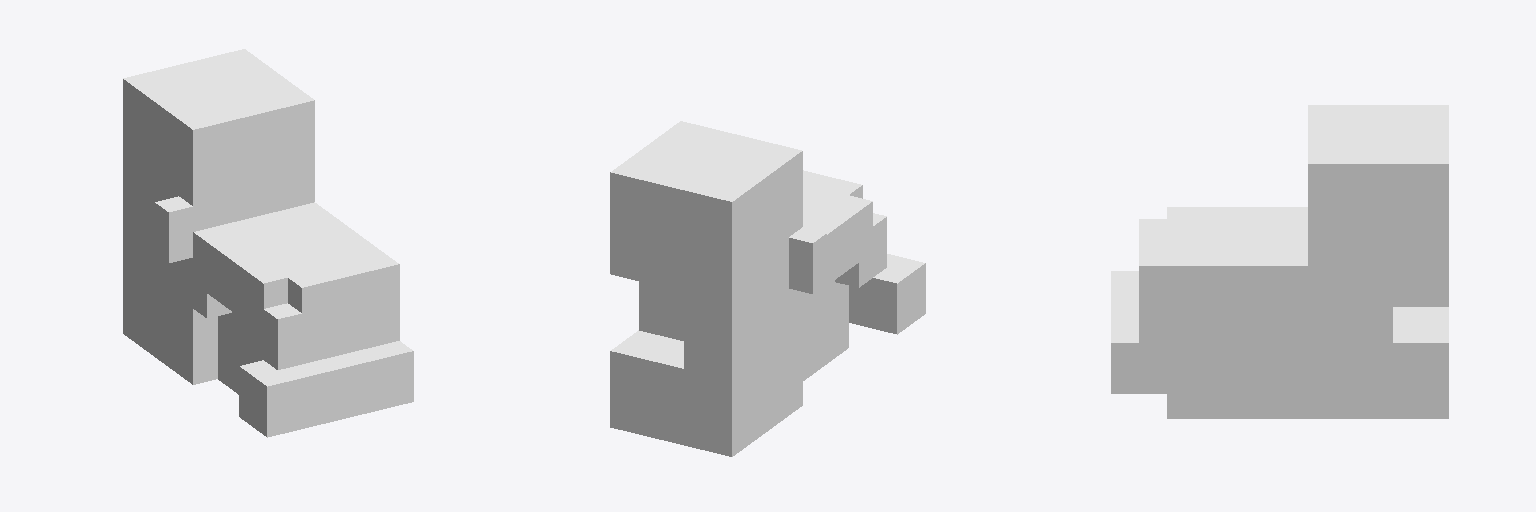
Rendered from redcarTopRight.obj.
The picture shows the model from 3 angles: view 1: azimuth 30°, elevation 25°; view 2: azimuth 150°, elevation 25°; view 3: azimuth 270°, elevation 25°; orthographic projection.
Parts seen in each view (by area): view 1: object 1; view 2: object 1; view 3: object 1.
Boxes of the visible parts, box(x1,y1,x2,y2) form: object 1: box(123, 49, 413, 437); object 1: box(610, 121, 925, 456); object 1: box(1111, 105, 1448, 418).
Size of the model in its own units: 0.6 by 1 by 1.2.